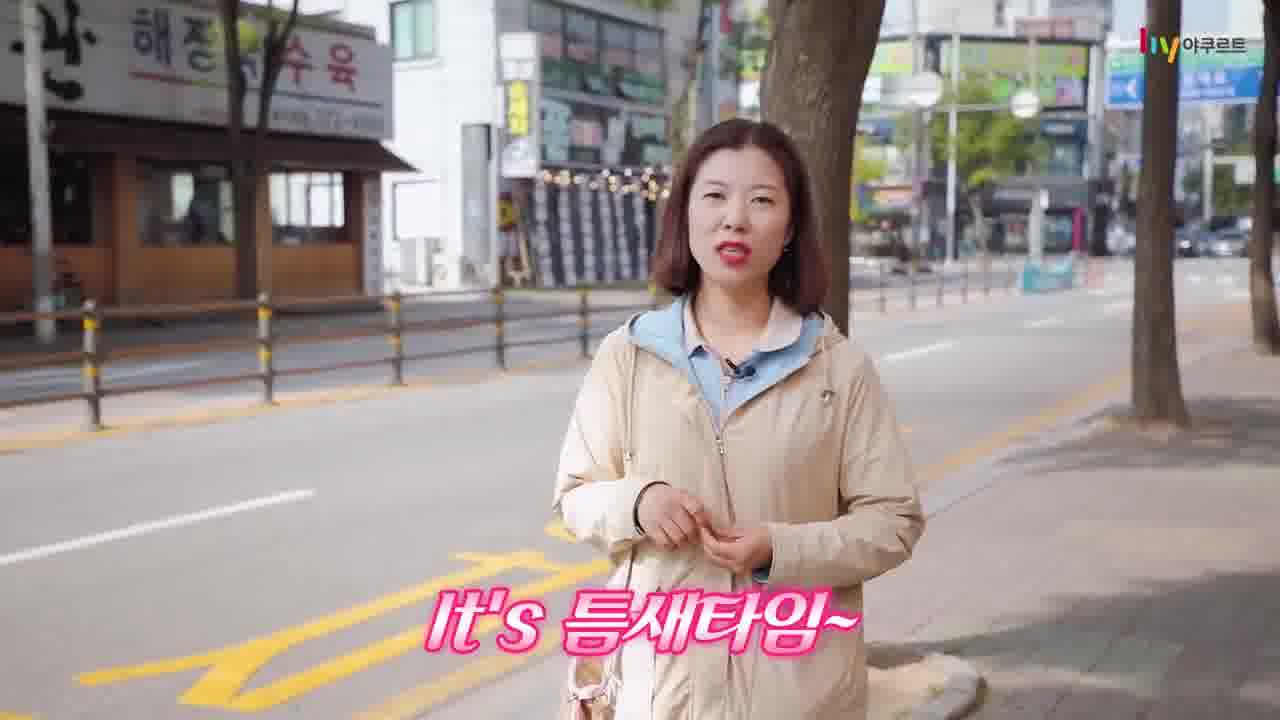Yakurut: (551, 80, 943, 720)
